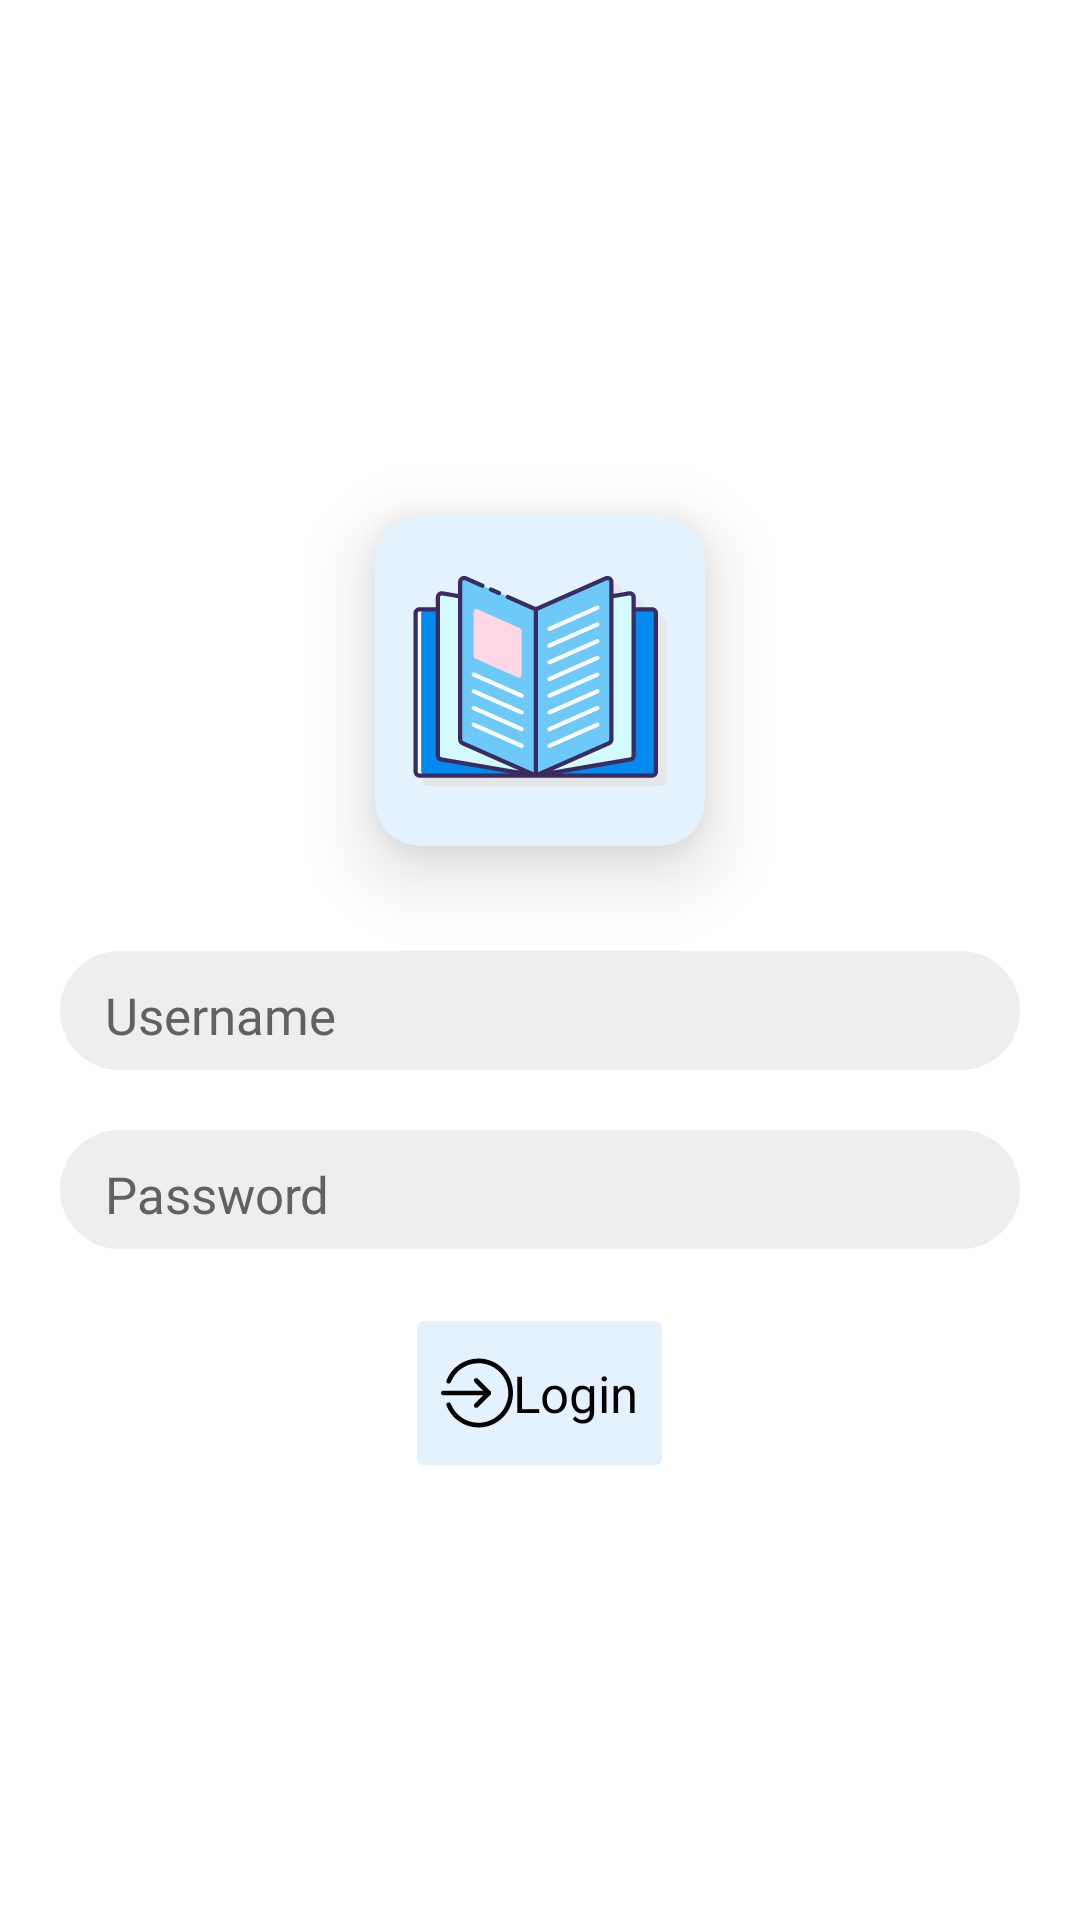

Where to tap for icons on this 1080px×1920px app screen, as (x=x, y=y):
open book: (x=535, y=677)
